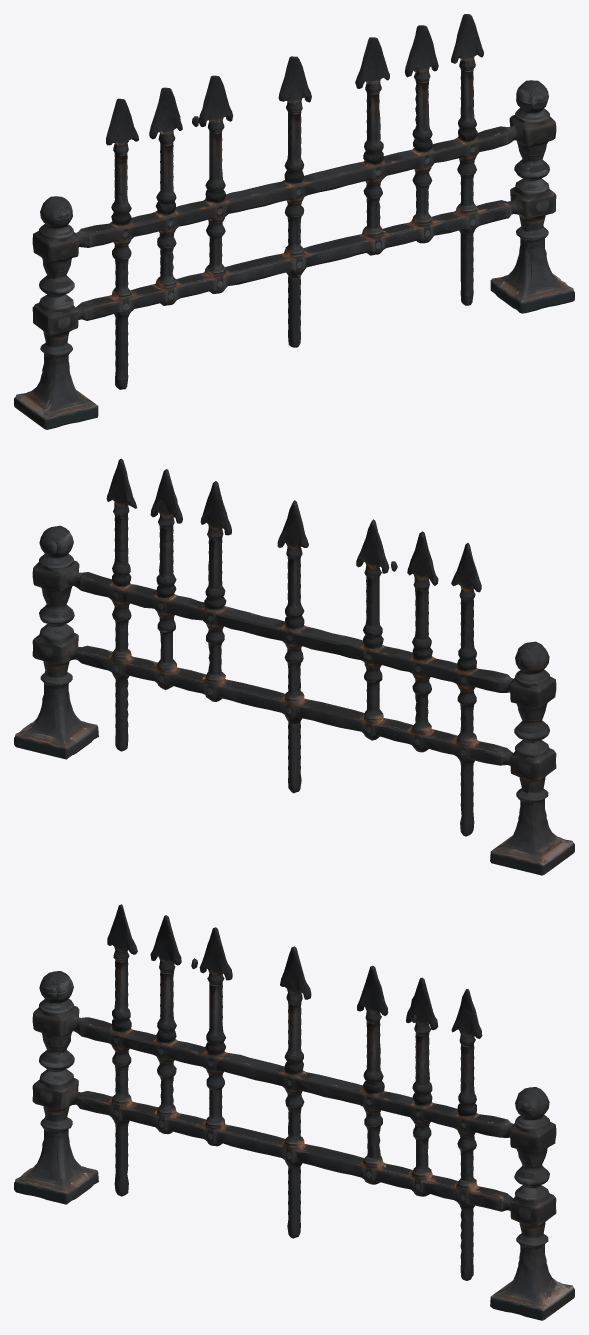
The model's file is estate_iron_fence_run.glb.
3 views of the same model, one above another, from view 1: azimuth 30°, elevation 25°; view 2: azimuth 150°, elevation 25°; view 3: azimuth 330°, elevation 25° (orthographic).
Bounding box in the file's own units: 1.91 × 1.02 × 0.1996.
1 material, 1 textured.
